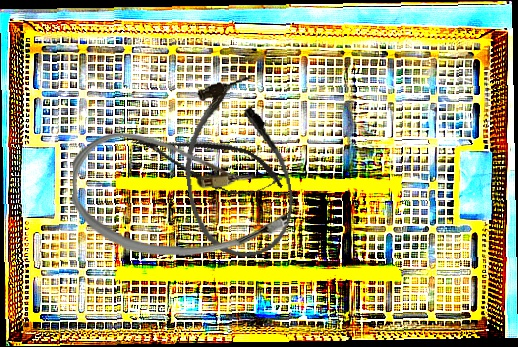Cannula: (71, 131, 289, 258), (172, 72, 301, 266)
Micro Scissor: (124, 115, 290, 210)
